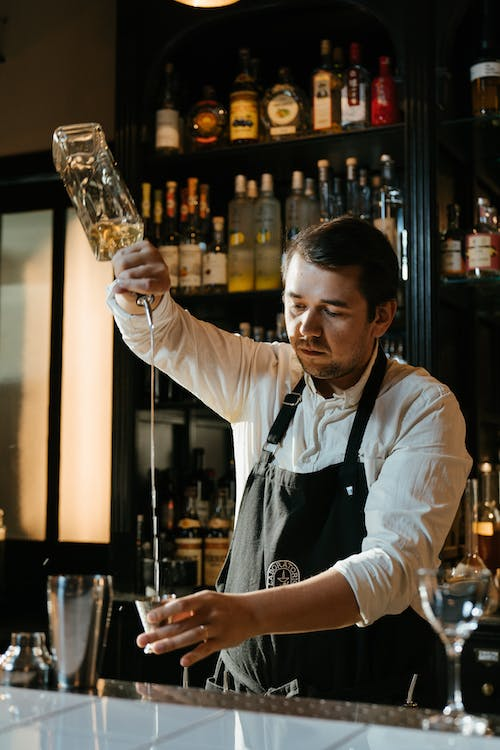alcohol: (50, 120, 156, 309), (415, 566, 494, 736), (371, 153, 404, 273), (305, 36, 342, 136), (228, 42, 261, 144), (261, 64, 305, 140), (173, 485, 205, 586), (228, 174, 254, 292), (254, 172, 280, 289), (205, 485, 235, 586), (187, 73, 229, 145), (131, 592, 178, 656), (151, 55, 181, 153), (341, 40, 372, 133), (465, 197, 500, 279), (180, 175, 203, 292), (284, 169, 316, 248), (371, 51, 402, 131), (468, 42, 500, 118), (158, 178, 179, 292), (439, 201, 464, 283), (204, 213, 228, 292), (317, 158, 340, 226), (340, 156, 365, 218), (136, 181, 155, 250)
